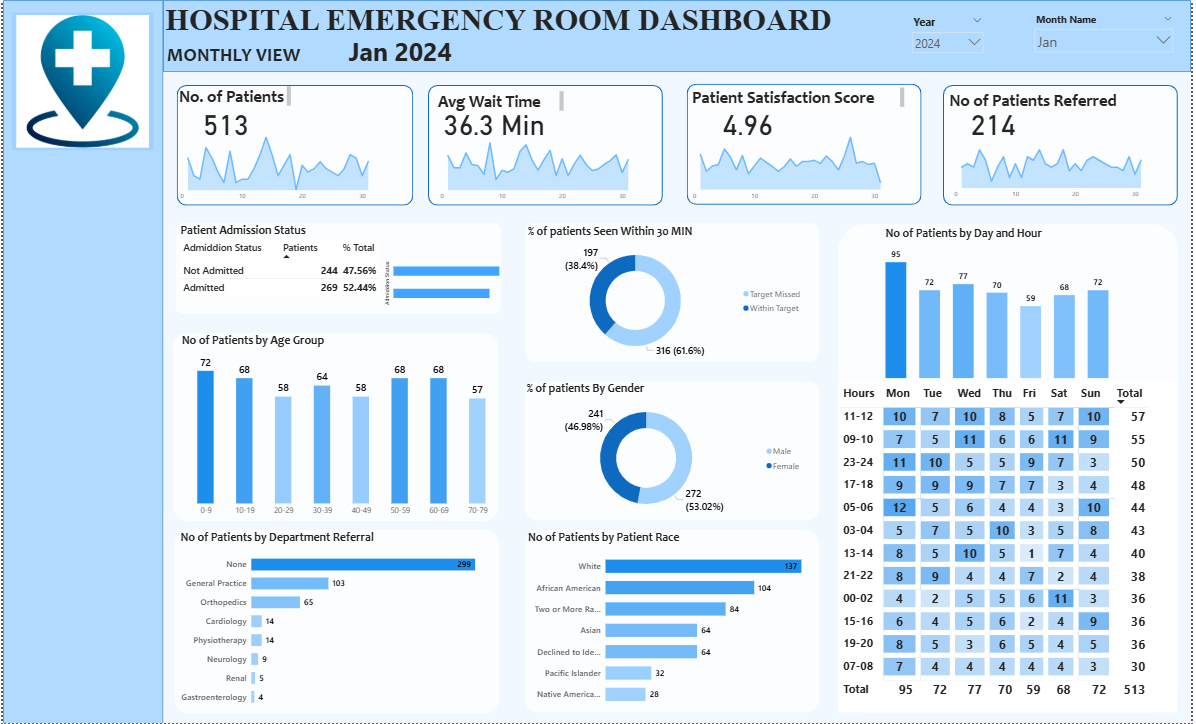

The dashboard page shown, as its layout file describes it:
{"tool":"powerbi","page":{"name":"Monthly View","canvas":[2300,1400],"ordinal":0},"visuals":[{"type":"shape","box":[0,0,310,1400],"z":0},{"type":"shape","box":[310.3,0,1988.9,139.3],"z":1000},{"type":"textbox","box":[310,0,1305,77.5],"z":2000},{"type":"textbox","box":[311.4,77.1,302.9,65.7],"z":3000},{"type":"slicer","fields":{"Values":["Date Table.Year"]},"box":[1748.2,22.2,157.8,91.2],"z":4000},{"type":"slicer","fields":{"Values":["Date Table.Month Name"]},"box":[1984.9,19.7,288.5,91.2],"z":5000},{"type":"shape","box":[336.4,163.6,457.6,233.3],"z":6000},{"type":"textbox","box":[337.1,162.9,225.7,48.6],"z":7000},{"type":"areaChart","fields":{"Category":["Date Table.Date.Variation.Date Hierarchy.Day"],"Y":["Hospital ER_Data.No of Patients"]},"box":[331.4,251.4,437.1,145.7],"z":8000},{"type":"card","fields":{"Values":["Min(Date Table.Month & Year)"]},"box":[614.3,68.6,308.6,62.9],"z":9000},{"type":"card","fields":{"Values":["Hospital ER_Data.No of Patients"]},"box":[337.1,188.6,188.6,94.3],"z":10000},{"type":"shape","box":[821.2,163.6,454.5,233.3],"z":11000},{"type":"areaChart","fields":{"Category":["Date Table.Date.Variation.Date Hierarchy.Day"],"Y":["Sum(Hospital ER_Data.Patient Waittime)"]},"box":[834.3,251.4,437.1,145.7],"z":12000},{"type":"card","fields":{"Values":["Hospital ER_Data.Avg Wait Time"]},"box":[836.4,187.9,227.3,93.9],"z":13000},{"type":"shape","box":[1818.2,163.6,454.5,233.3],"z":14000},{"type":"shape","box":[1324.3,162.9,454.3,234.3],"z":15000},{"type":"textbox","box":[1327.3,163.6,421.2,48.5],"z":16000},{"type":"card","fields":{"Values":["Avg(Hospital ER_Data.Patient Satisfaction Score)"]},"box":[1327.3,187.9,227.3,93.9],"z":17000},{"type":"areaChart","fields":{"Category":["Date Table.Date.Variation.Date Hierarchy.Day"],"Y":["Avg(Hospital ER_Data.Patient Satisfaction Score)"]},"box":[1324.2,251.5,436.4,145.5],"z":18000},{"type":"textbox","box":[830,172.9,260,48.6],"z":19000},{"type":"textbox","box":[1825.7,168.6,380,54.3],"z":20000},{"type":"card","fields":{"Values":["Hospital ER_Data.No of Patient Referred"]},"box":[1827.5,197.5,175,75],"z":21000},{"type":"shape","box":[335,430,630,177.5],"z":22000},{"type":"areaChart","fields":{"Category":["Date Table.Date.Variation.Date Hierarchy.Day"],"Y":["Hospital ER_Data.No of Patient Referred"]},"box":[1827.5,250,435,145],"z":23000},{"type":"pivotTable","title":"Patient Admission Status","fields":{"Rows":["Hospital ER_Data.Admiddion Status"],"Values":["Hospital ER_Data.No of Patients1","Hospital ER_Data.No of Patients"]},"box":[338.5,430.8,623.1,176.9],"z":24000},{"type":"barChart","fields":{"Category":["Hospital ER_Data.Admiddion Status"],"Y":["Hospital ER_Data.No of Patients"]},"box":[733.3,482.1,256.4,125.6],"z":25000},{"type":"shape","box":[330,642.5,630,365],"z":26000},{"type":"clusteredColumnChart","fields":{"Category":["Hospital ER_Data.Age Group"],"Y":["Hospital ER_Data.No of Patients"]},"box":[340,642.5,630,365],"z":27000},{"type":"shape","box":[332.5,1025,630,355],"z":28000},{"type":"clusteredBarChart","fields":{"Category":["Hospital ER_Data.Department Referral"],"Y":["Hospital ER_Data.No of Patients"]},"box":[337.5,1025,612.5,355],"z":29000},{"type":"shape","box":[1007.7,430.8,571.8,269.2],"z":30000},{"type":"donutChart","title":"% of patients Seen Within 30 MIN","fields":{"Category":["Hospital ER_Data.Wait time Status"],"Y":["Hospital ER_Data.No of Patients"]},"box":[1010.3,433.3,546.2,269.2],"z":31000},{"type":"shape","box":[1007.7,738.5,571.8,269.2],"z":32000},{"type":"donutChart","title":"% of patients By Gender","fields":{"Category":["Hospital ER_Data.Patient Gender","Hospital ER_Data.Wait time Status"],"Y":["Hospital ER_Data.No of Patients"]},"box":[1007.7,738.5,546.2,269.2],"z":33000},{"type":"shape","box":[1007.7,1025.6,571.8,353.8],"z":34000},{"type":"clusteredBarChart","fields":{"Y":["Hospital ER_Data.No of Patients"],"Category":["Hospital ER_Data.Patient Race"]},"box":[1010.3,1025.6,569.2,353.8],"z":35000},{"type":"shape","box":[1615.4,433.3,659,946.2],"z":36000},{"type":"pivotTable","fields":{"Rows":["Hospital ER_Data.Waittime Interval"],"Columns":["Date Table.Day Name"],"Values":["Hospital ER_Data.No of Patients"]},"box":[1615.4,738.5,656.4,641],"z":37000},{"type":"columnChart","title":"No of Patients by Day and Hour","fields":{"Category":["Date Table.Day Name"],"Y":["Hospital ER_Data.No of Patients"]},"box":[1702.6,438.5,443.6,300],"z":38000},{"type":"image","box":[17.9,23.1,274.4,266.7],"z":39000}]}

Visuals, with their boxes in screenshot pixels (x1, y1, x2, y2), scaled from the page's 2300x1400 canvas onto the 1196x724 screenshot:
shape: {"x1": 0, "y1": 0, "x2": 161, "y2": 723}
shape: {"x1": 161, "y1": 0, "x2": 1195, "y2": 72}
textbox: {"x1": 161, "y1": 0, "x2": 840, "y2": 40}
textbox: {"x1": 162, "y1": 40, "x2": 319, "y2": 74}
slicer - Date Table.Year: {"x1": 909, "y1": 11, "x2": 991, "y2": 59}
slicer - Date Table.Month Name: {"x1": 1032, "y1": 10, "x2": 1182, "y2": 57}
shape: {"x1": 175, "y1": 85, "x2": 413, "y2": 205}
textbox: {"x1": 175, "y1": 84, "x2": 293, "y2": 109}
areaChart - Date Table.Date.Variation.Date Hierarchy.Day x Hospital ER_Data.No of Patients: {"x1": 172, "y1": 130, "x2": 400, "y2": 205}
card - Min(Date Table.Month & Year): {"x1": 319, "y1": 35, "x2": 480, "y2": 68}
card - Hospital ER_Data.No of Patients: {"x1": 175, "y1": 98, "x2": 273, "y2": 146}
shape: {"x1": 427, "y1": 85, "x2": 663, "y2": 205}
areaChart - Date Table.Date.Variation.Date Hierarchy.Day x Sum(Hospital ER_Data.Patient Waittime): {"x1": 434, "y1": 130, "x2": 661, "y2": 205}
card - Hospital ER_Data.Avg Wait Time: {"x1": 435, "y1": 97, "x2": 553, "y2": 146}
shape: {"x1": 945, "y1": 85, "x2": 1182, "y2": 205}
shape: {"x1": 689, "y1": 84, "x2": 925, "y2": 205}
textbox: {"x1": 690, "y1": 85, "x2": 909, "y2": 110}
card - Avg(Hospital ER_Data.Patient Satisfaction Score): {"x1": 690, "y1": 97, "x2": 808, "y2": 146}
areaChart - Date Table.Date.Variation.Date Hierarchy.Day x Avg(Hospital ER_Data.Patient Satisfaction Score): {"x1": 689, "y1": 130, "x2": 916, "y2": 205}
textbox: {"x1": 432, "y1": 89, "x2": 567, "y2": 115}
textbox: {"x1": 949, "y1": 87, "x2": 1147, "y2": 115}
card - Hospital ER_Data.No of Patient Referred: {"x1": 950, "y1": 102, "x2": 1041, "y2": 141}
shape: {"x1": 174, "y1": 222, "x2": 502, "y2": 314}
areaChart - Date Table.Date.Variation.Date Hierarchy.Day x Hospital ER_Data.No of Patient Referred: {"x1": 950, "y1": 129, "x2": 1176, "y2": 204}
"Patient Admission Status" pivotTable: {"x1": 176, "y1": 223, "x2": 500, "y2": 314}
barChart - Hospital ER_Data.Admiddion Status x Hospital ER_Data.No of Patients: {"x1": 381, "y1": 249, "x2": 515, "y2": 314}
shape: {"x1": 172, "y1": 332, "x2": 499, "y2": 521}
clusteredColumnChart - Hospital ER_Data.Age Group x Hospital ER_Data.No of Patients: {"x1": 177, "y1": 332, "x2": 504, "y2": 521}
shape: {"x1": 173, "y1": 530, "x2": 500, "y2": 714}
clusteredBarChart - Hospital ER_Data.Department Referral x Hospital ER_Data.No of Patients: {"x1": 176, "y1": 530, "x2": 494, "y2": 714}
shape: {"x1": 524, "y1": 223, "x2": 821, "y2": 362}
"% of patients Seen Within 30 MIN" donutChart: {"x1": 525, "y1": 224, "x2": 809, "y2": 363}
shape: {"x1": 524, "y1": 382, "x2": 821, "y2": 521}
"% of patients By Gender" donutChart: {"x1": 524, "y1": 382, "x2": 808, "y2": 521}
shape: {"x1": 524, "y1": 530, "x2": 821, "y2": 713}
clusteredBarChart - Hospital ER_Data.No of Patients x Hospital ER_Data.Patient Race: {"x1": 525, "y1": 530, "x2": 821, "y2": 713}
shape: {"x1": 840, "y1": 224, "x2": 1183, "y2": 713}
pivotTable - Hospital ER_Data.Waittime Interval x Date Table.Day Name: {"x1": 840, "y1": 382, "x2": 1181, "y2": 713}
"No of Patients by Day and Hour" columnChart: {"x1": 885, "y1": 227, "x2": 1116, "y2": 382}
image: {"x1": 9, "y1": 12, "x2": 152, "y2": 150}
